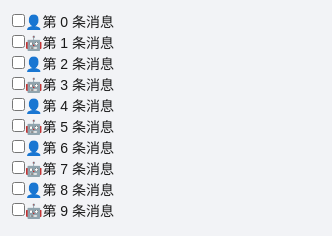
ImportMessageList：行右键菜单 › 菜单项点完即关闭
Step 1. Right-click the element with class "import-kb-msg-item" showing "🤖第 1 条消息" → point(63, 43), box [12,35,114,51]
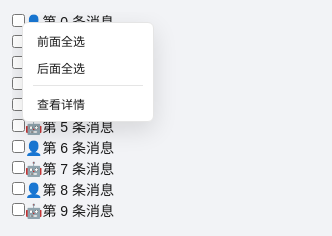
Expected: the menu with class "context-menu" is shown, [22,22,154,122]
Step 2. Click the menu item with class "context-menu-item" showing "前面全选" → point(88, 40), box [27,27,149,54]
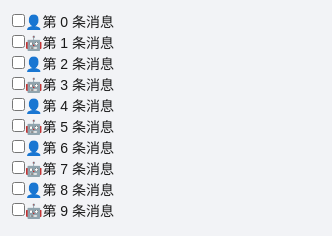
Expected: the menu with class "context-menu" is gone
